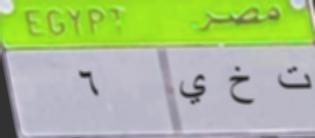6: (75, 67, 103, 101)
khaa: (226, 61, 258, 111)
taa: (273, 59, 313, 98)
yaa: (177, 72, 211, 110)
